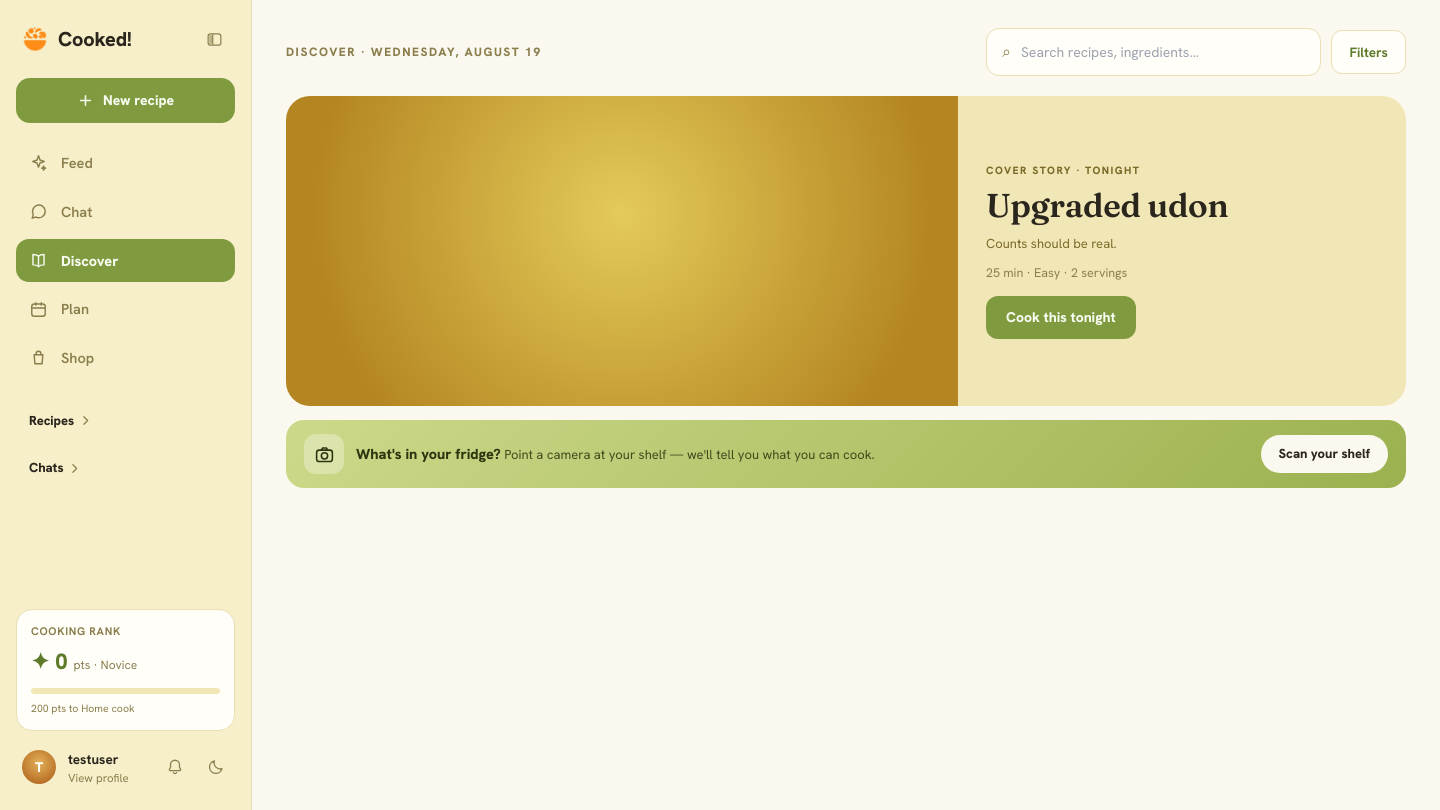
Test: RecipeDetailPage envelope fallback (F1) › upgrades a cache-only unknown entry when the detail mounts (browse → detail)
Step 1. Type "udon" into the field labelled "Search recipes" → (1163, 52), box [1021, 42, 1305, 62]
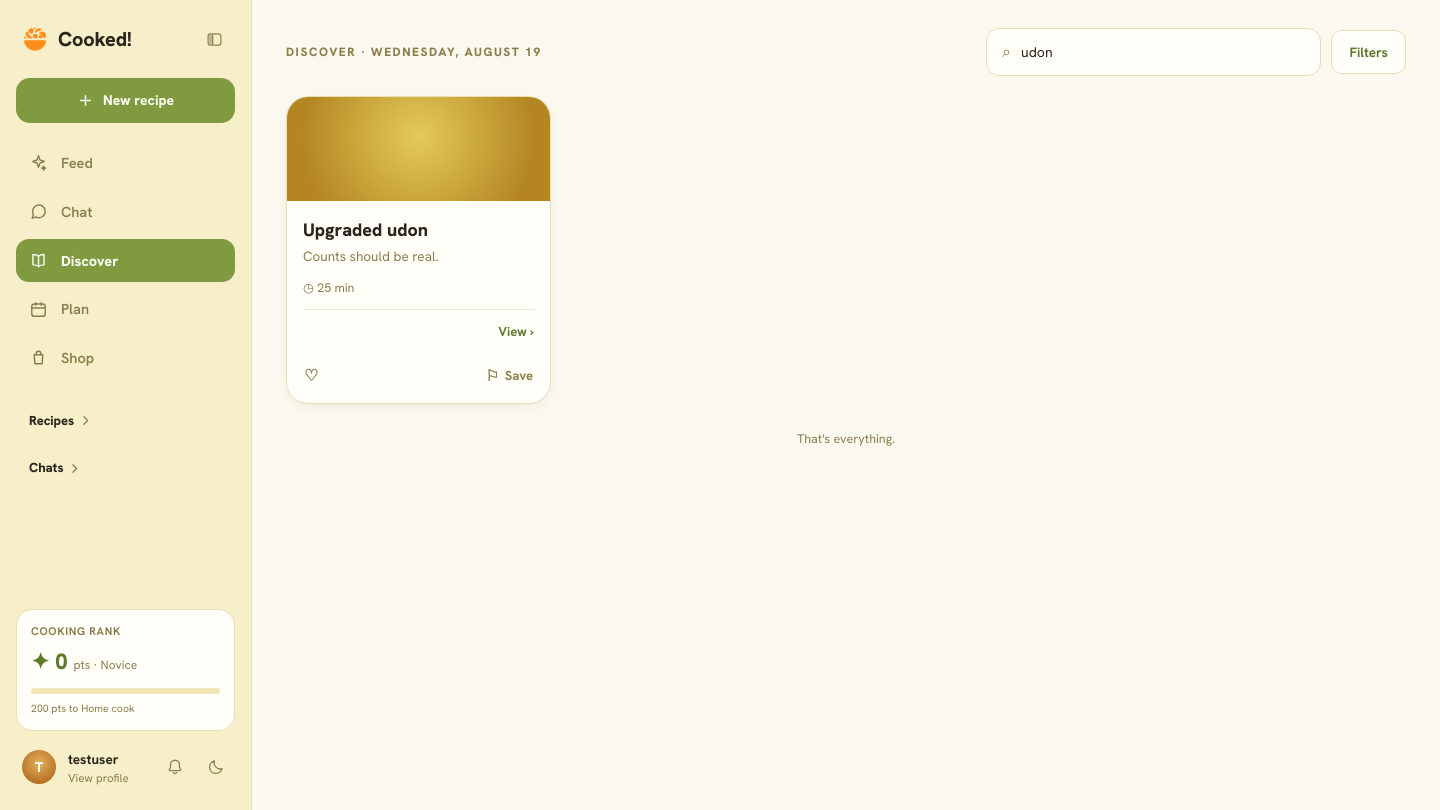
Expected: the text "Upgraded udon" is shown, [303, 216, 428, 243]
Note: Opening the detail upgrades the pre-existing unknown entry via ONE fetch.
Step 2. Click the link "Upgraded udon" → (418, 227), box [287, 97, 550, 357]
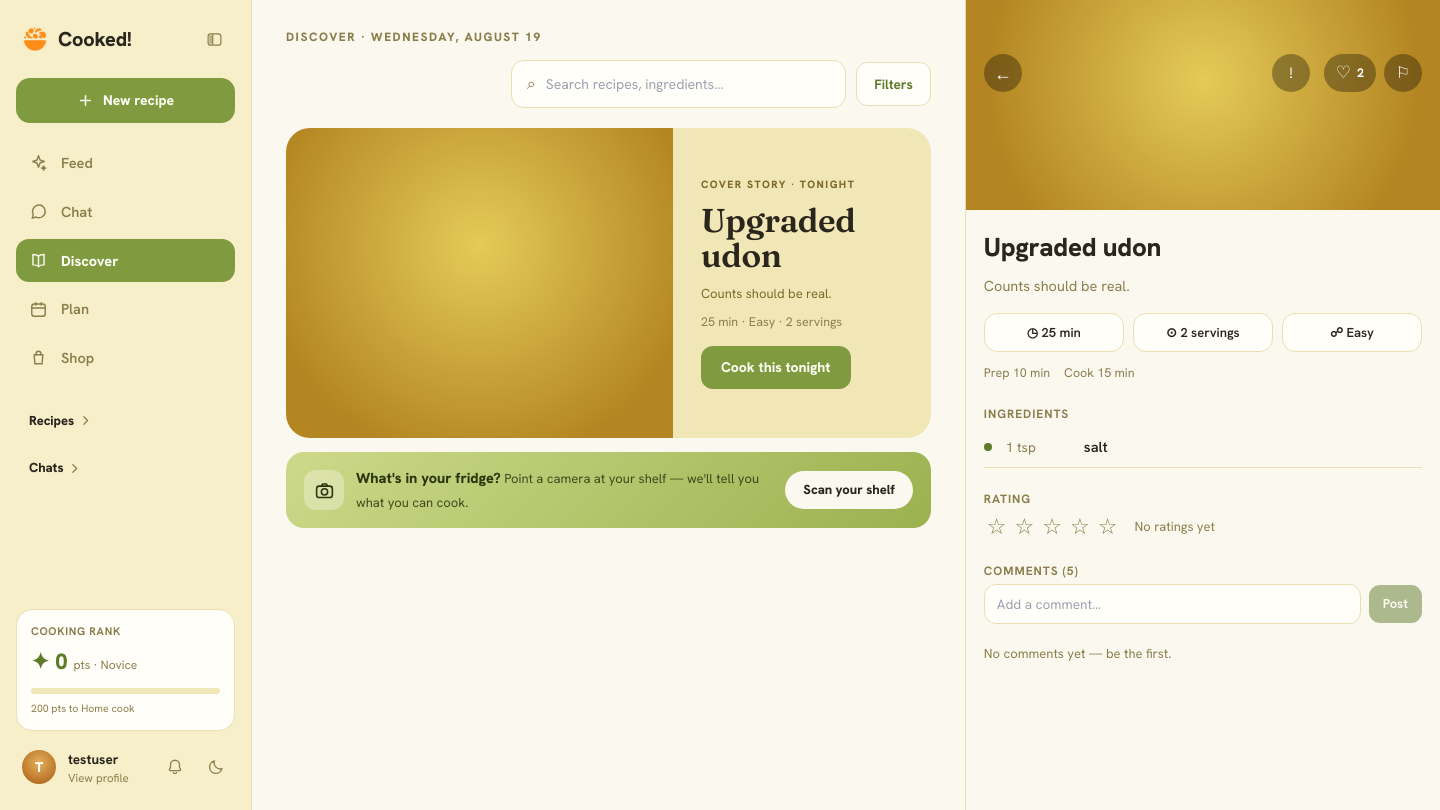
Result: the text "Comments (5)" is shown at [984, 563, 1079, 579]
Result: the button named "Like" shows "2" at [1324, 54, 1376, 92]
